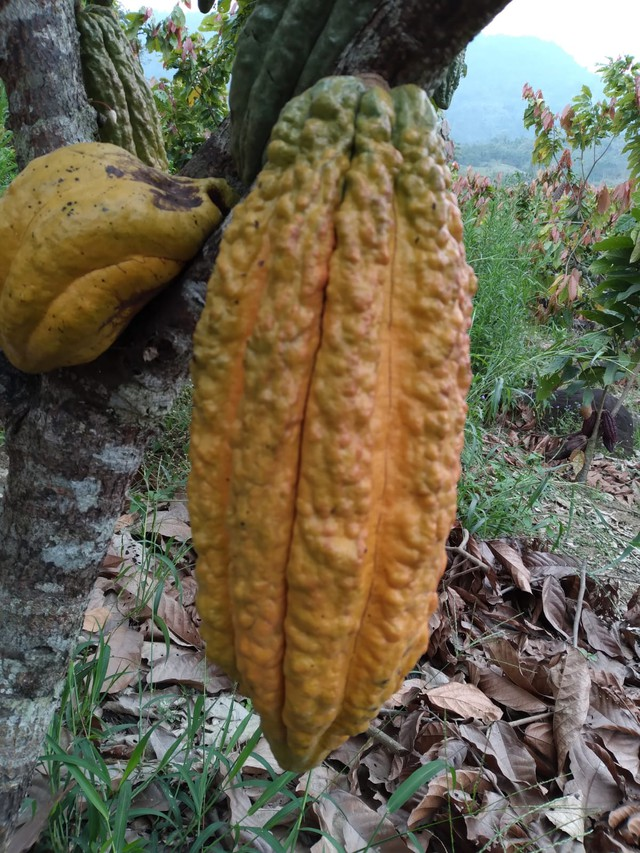Health: (178, 63, 485, 779)
